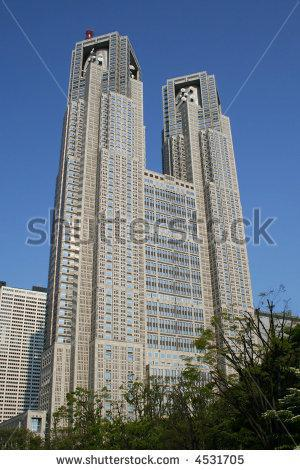affected: (51, 26, 249, 442)
